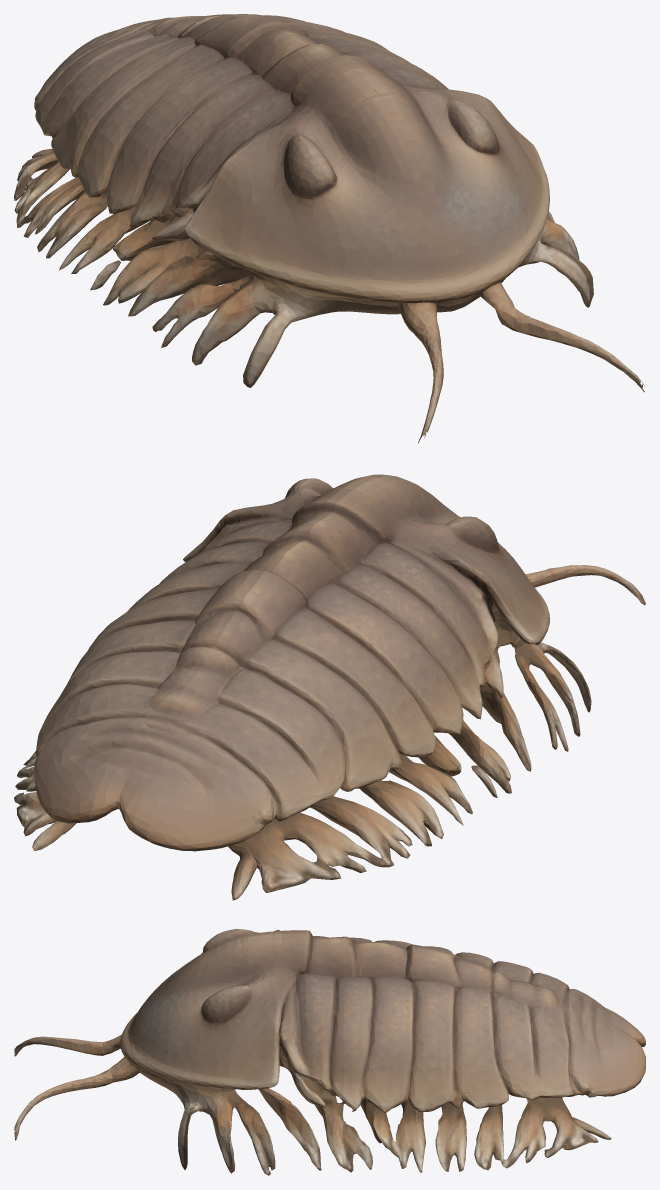
3 renders of one model, top to bottom at view 1: azimuth 30°, elevation 25°; view 2: azimuth 150°, elevation 25°; view 3: azimuth 270°, elevation 25°, orthographic. The views are drawn at different scales.
Visible parts, largest first — view 1: world; view 2: world; view 3: world.
Boxes of the visible parts, box(x1,y1,x2,y2) form: world: box(14, 14, 644, 443); world: box(14, 474, 645, 900); world: box(14, 929, 645, 1175).
Size of the model in its own units: 0.0252 by 0.0138 by 0.0451.
1 material, 1 textured.
